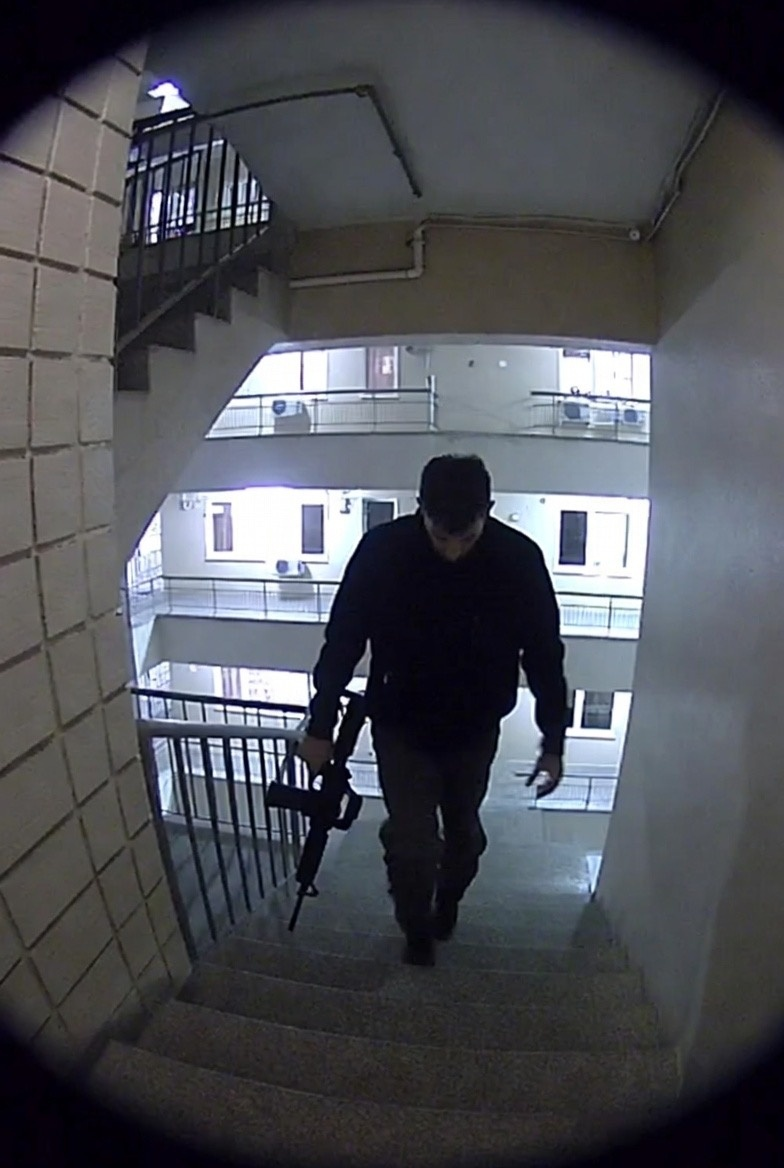gun: (269, 678, 370, 919)
person: (305, 449, 564, 955)
